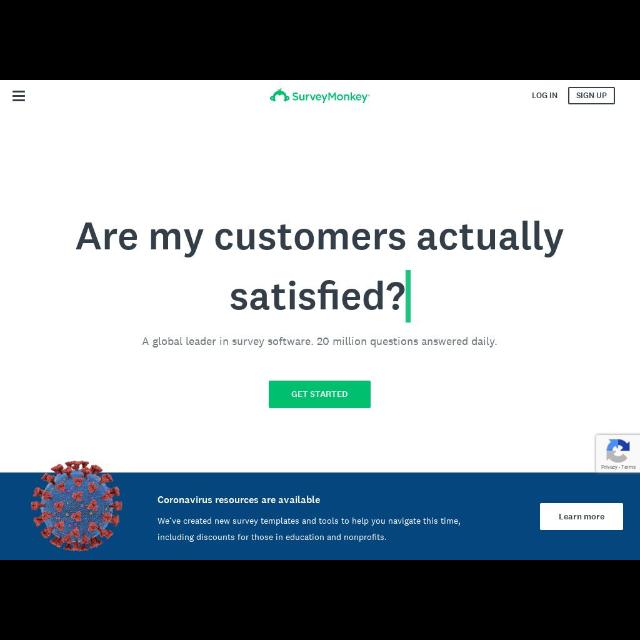button: (540, 502, 624, 532), (10, 89, 28, 103)
icon: (12, 90, 26, 102)
image: (28, 456, 128, 554), (270, 87, 372, 105), (594, 434, 640, 472)
text: (75, 220, 565, 258), (228, 268, 416, 326), (141, 336, 497, 350), (158, 516, 462, 526), (157, 534, 389, 542), (157, 497, 320, 505), (290, 389, 348, 399), (558, 512, 606, 520), (577, 92, 607, 98), (532, 92, 558, 98)
textbutton: (268, 380, 372, 410), (568, 86, 616, 105)
toolbar: (1, 82, 640, 106)
